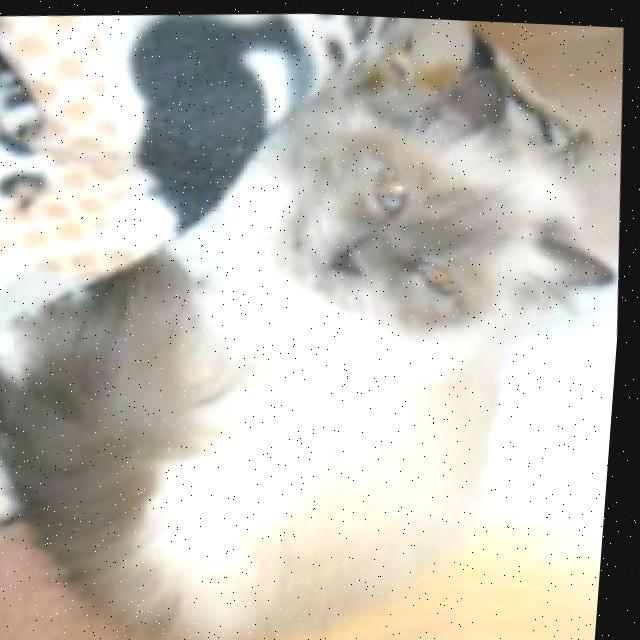Birman: (0, 41, 638, 640)
